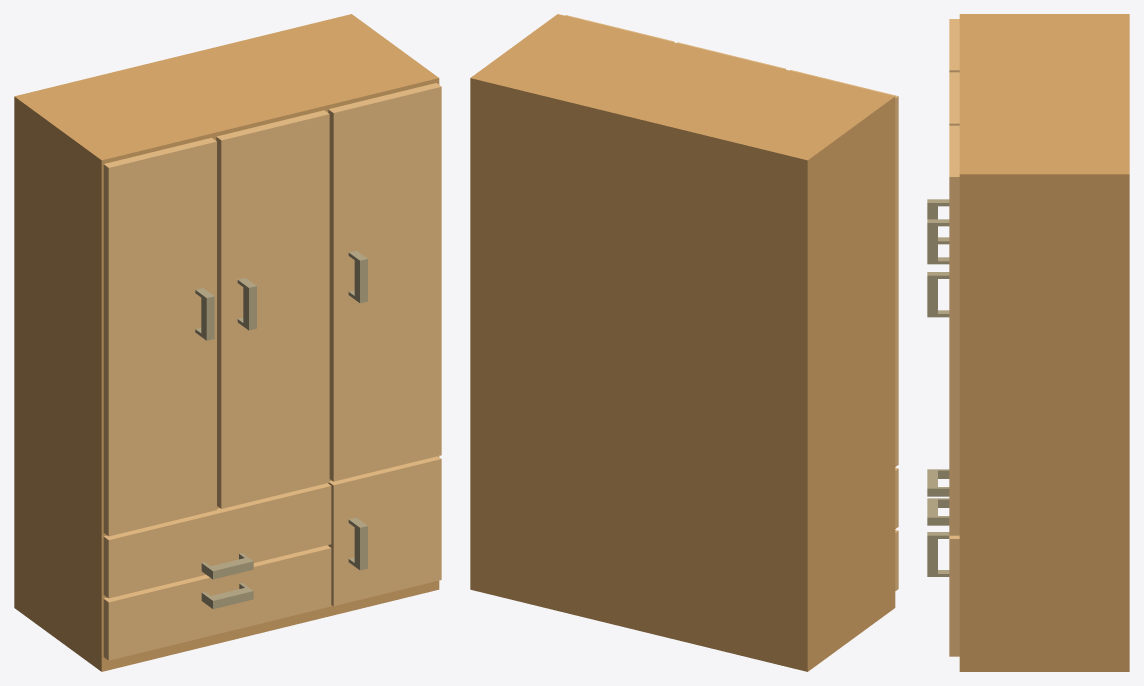
File: 1_wardrobe.fbx
The picture shows the model from 3 angles, left to right: view 1: azimuth 30°, elevation 25°; view 2: azimuth 150°, elevation 25°; view 3: azimuth 270°, elevation 25°; orthographic projection. The views are drawn at different scales.
Visible parts, largest first — view 1: 1 wardrobe; view 2: 1 wardrobe; view 3: 1 wardrobe.
Part boxes in pixels (box(x1,y1,x2,y2)): 1 wardrobe: box(14, 14, 441, 671); 1 wardrobe: box(470, 14, 898, 671); 1 wardrobe: box(927, 14, 1129, 671).
Size of the model in its own units: 78.35 by 113 by 41.87.
